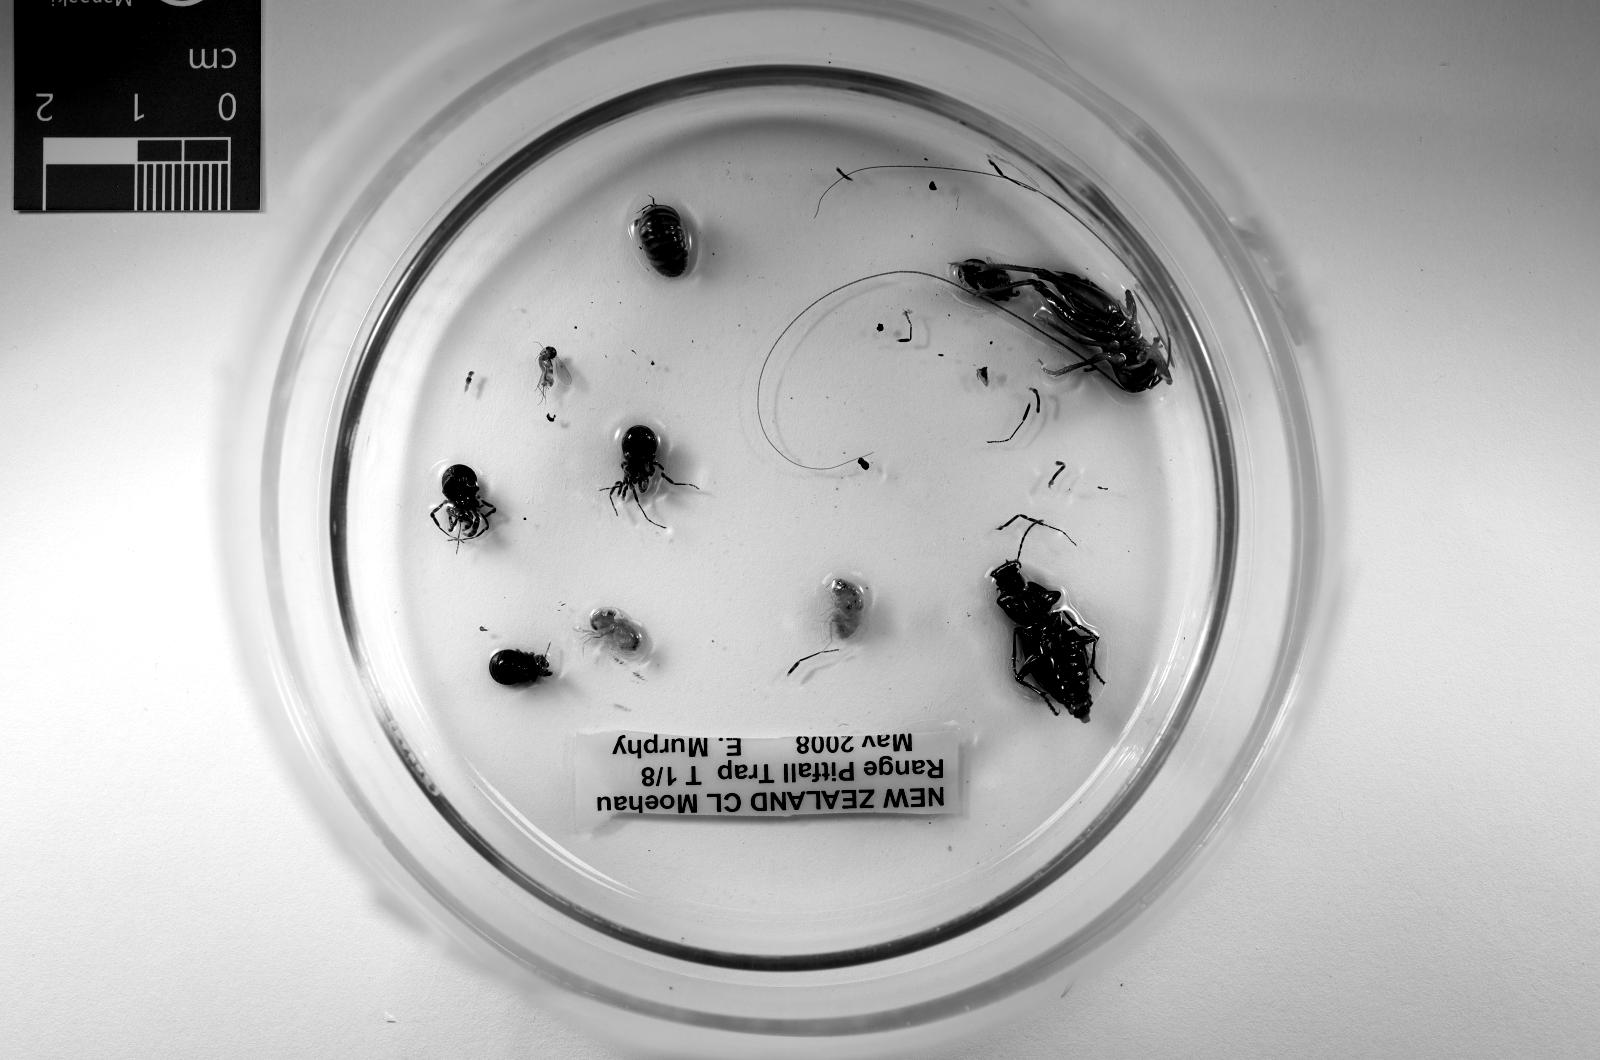amphipoda: (582, 608, 643, 655), (828, 577, 866, 640)
carabidae: (991, 558, 1097, 724)
diptera: (538, 344, 572, 394)
isopoda: (634, 202, 691, 277)
opiliones: (598, 426, 694, 530), (432, 466, 497, 547), (487, 649, 550, 686)
orthoptera: (950, 258, 1172, 392)
